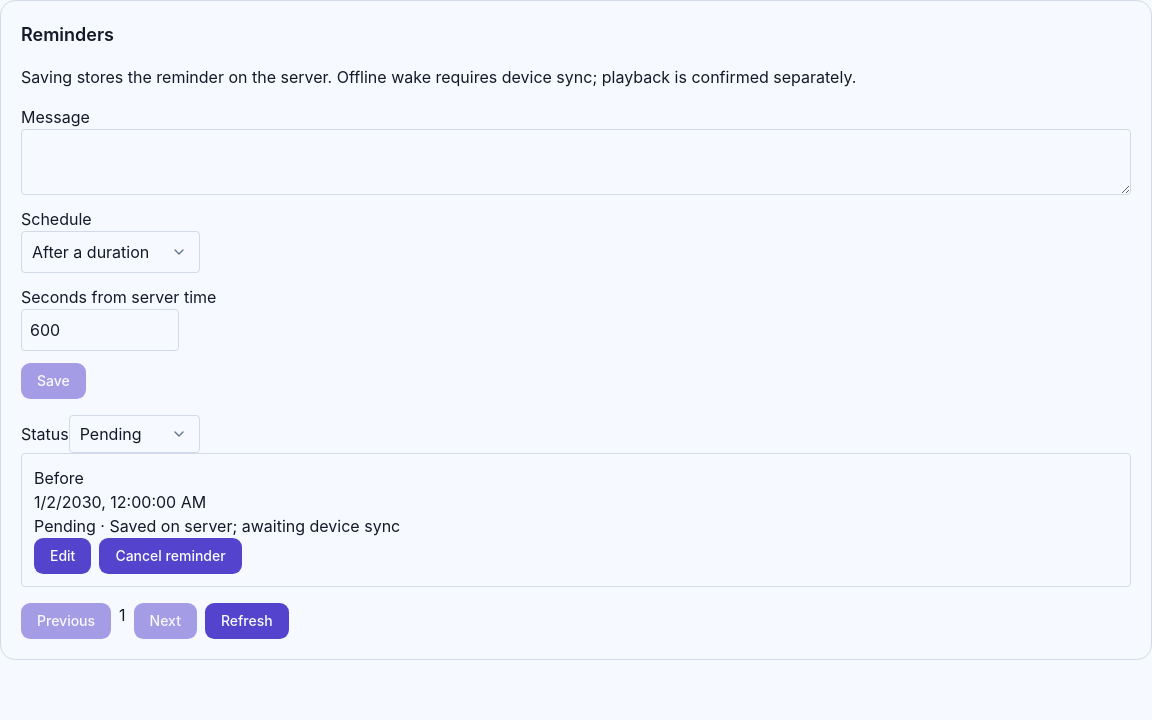
Test case: edits with the observed revision and reports conflicts without claiming a save
The image size is (1152, 720).
Click the button "Edit". click: coordinates (63, 556)
box: [34, 538, 91, 574]
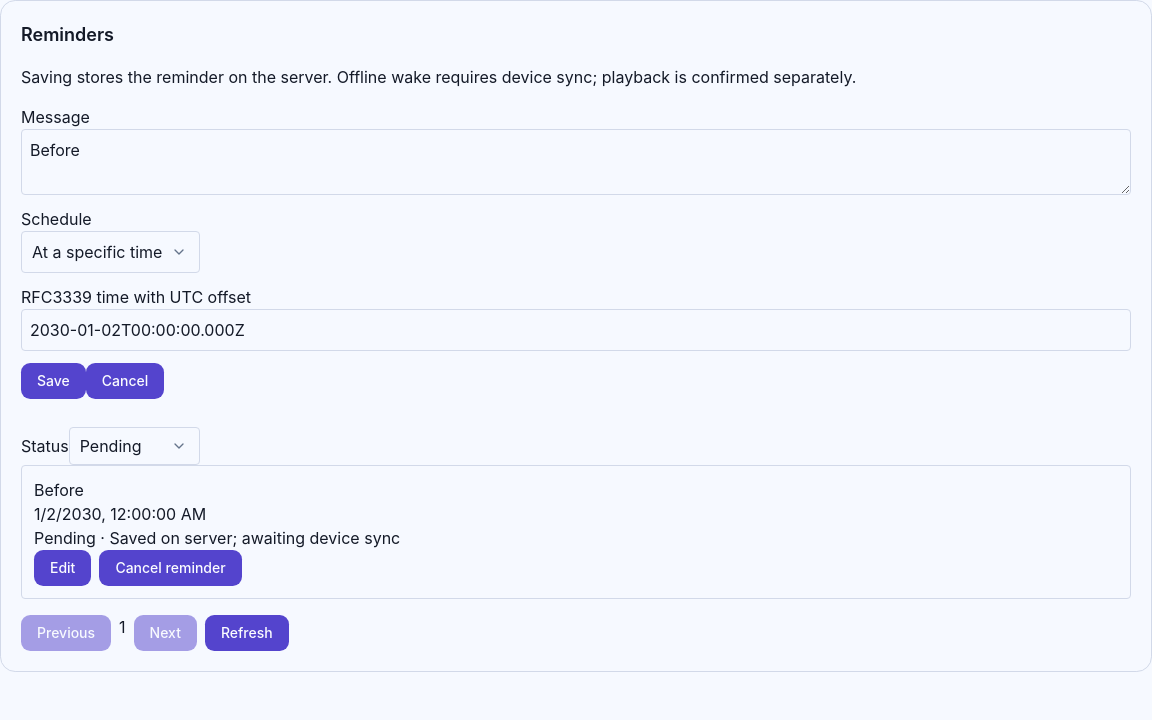
Replace the text in the text box labelled "Message" with "After". click: coordinates (576, 162)
box: [21, 129, 1131, 195]
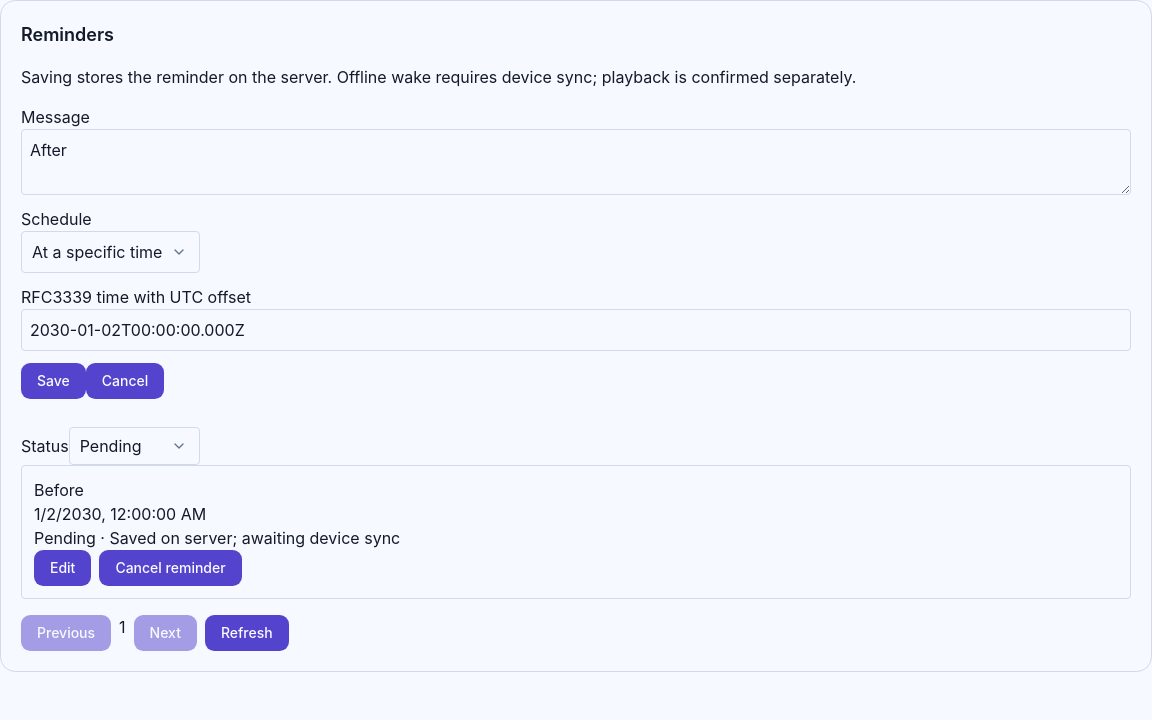
Submit the form, box [21, 105, 1131, 411]
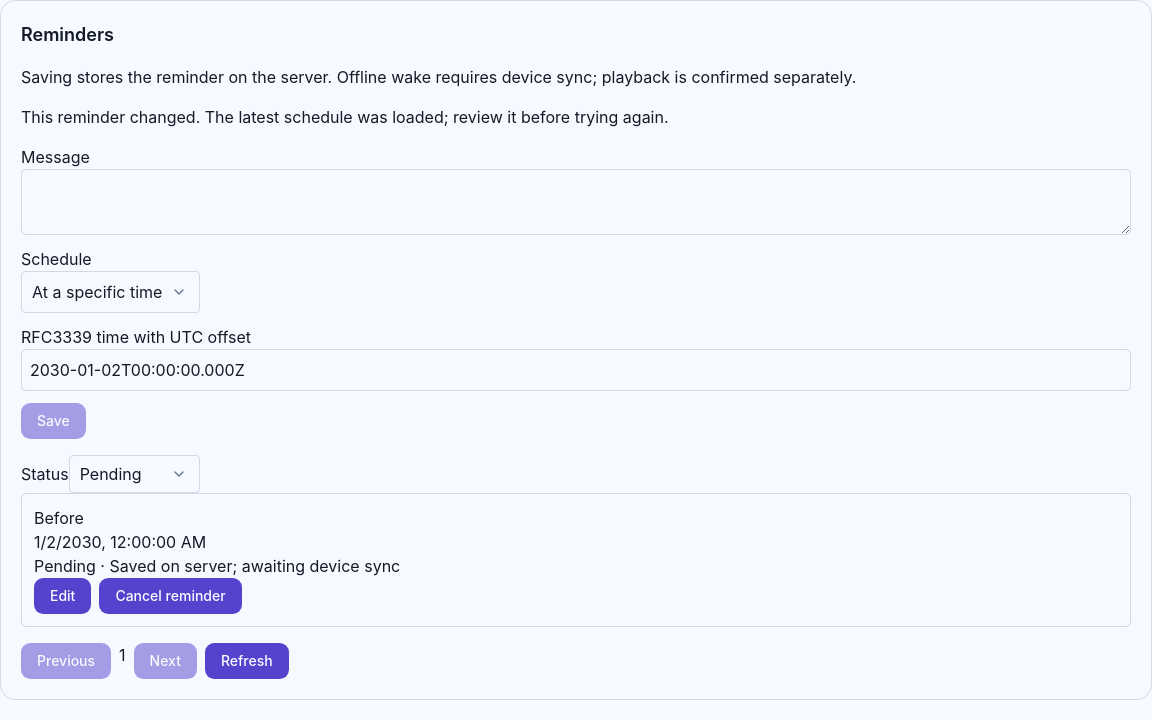
Now the text "changed" is shown, box [21, 107, 669, 127]
